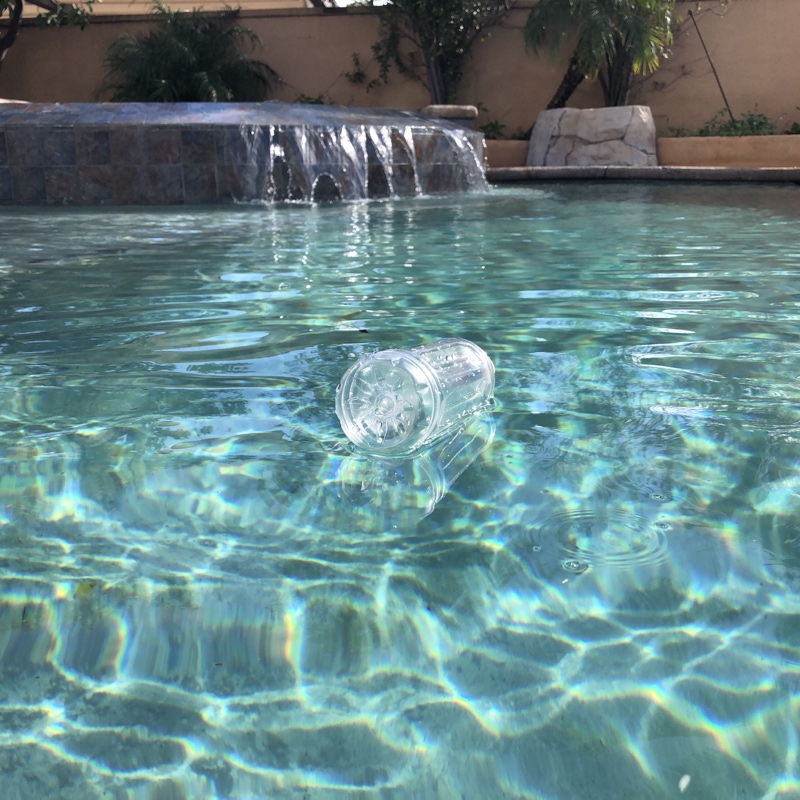Plastic Bottle: (329, 336, 501, 462)
